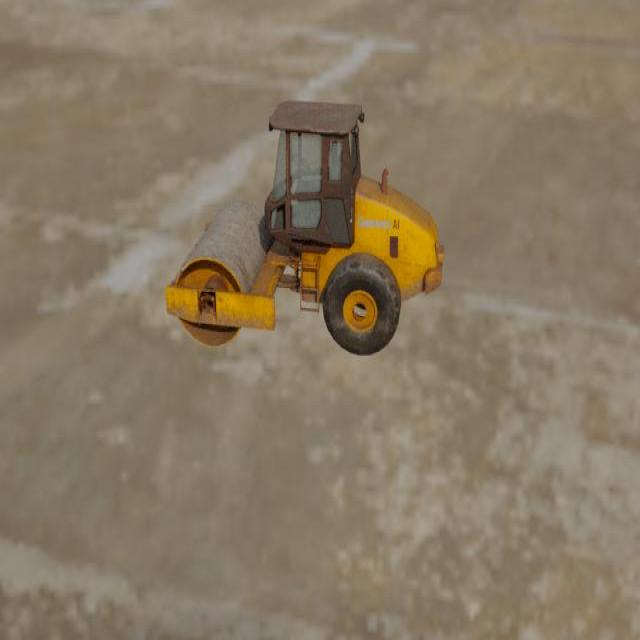Roller: (164, 99, 444, 356)
